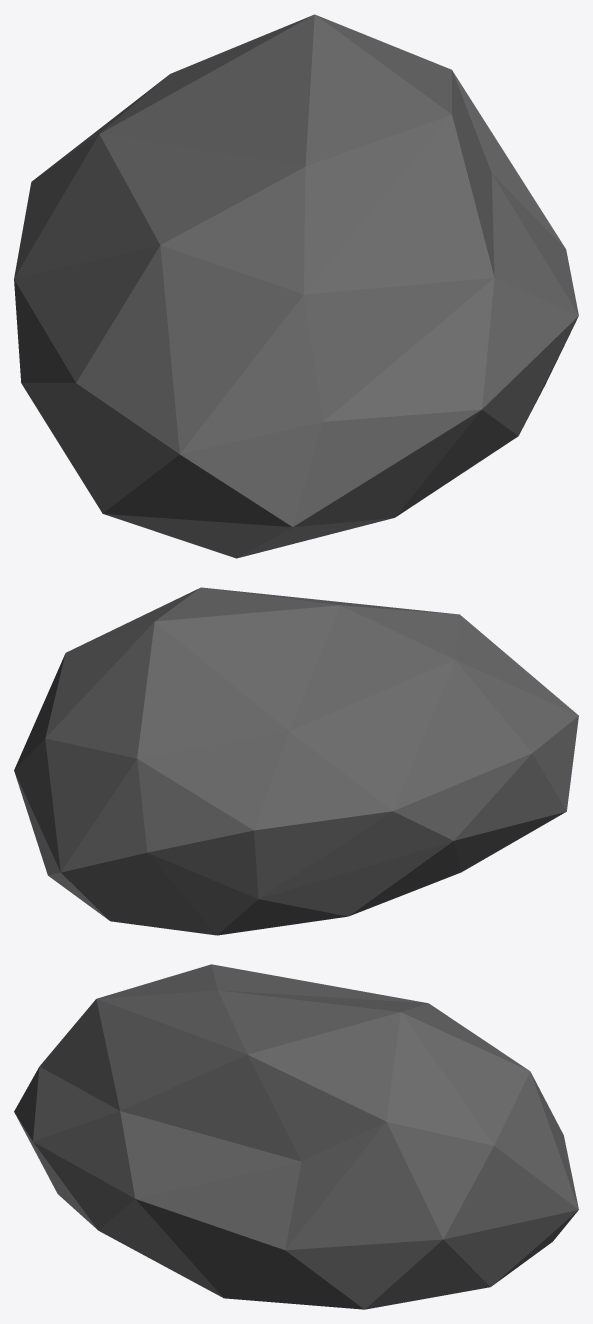
The model's file is rock.fbx.
The picture shows the model from 3 angles, top to bottom: view 1: azimuth 30°, elevation 25°; view 2: azimuth 150°, elevation 25°; view 3: azimuth 270°, elevation 25°; orthographic projection. The views are drawn at different scales.
Visible parts, largest first — view 1: rock; view 2: rock; view 3: rock.
Part boxes in pixels (x1,y1,x2,y2): rock: (14,14,578,558); rock: (14,587,578,935); rock: (14,964,578,1309).
Size of the model in its own units: 68.85 by 41.62 by 78.54.
